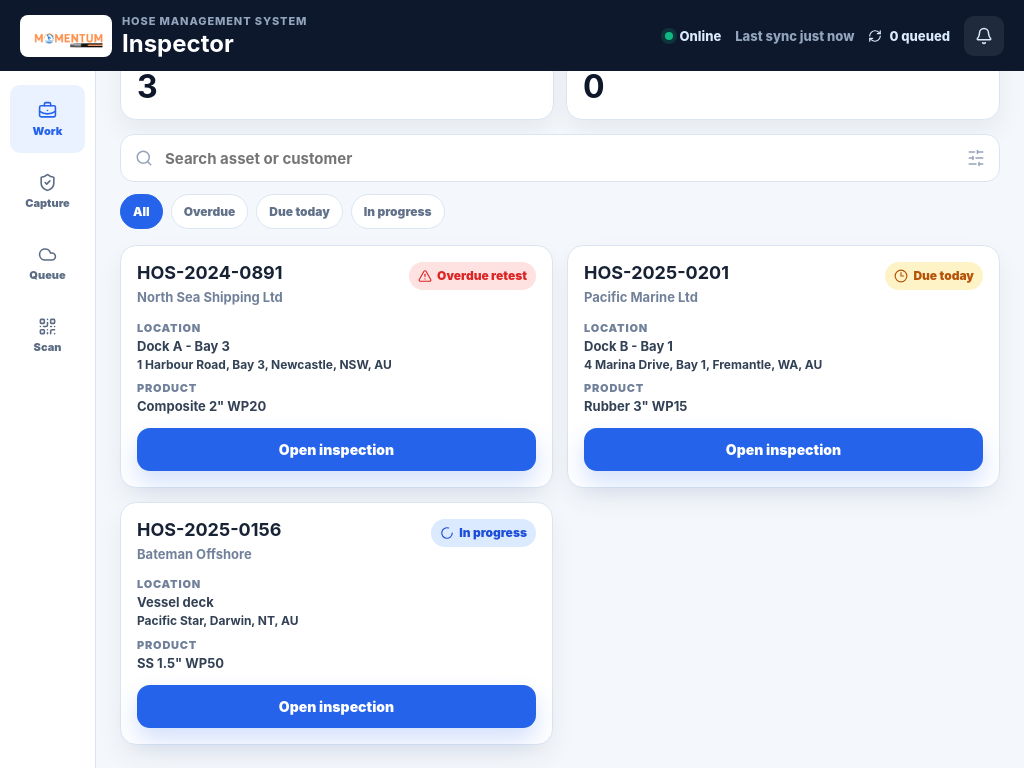
it: native inspection lifecycle in the inspector › shows an inspection the server holds in progress as editable, not as a draft
The image size is (1024, 768).
(page scrolled)
Click the button "Open inspection" below "SS 1.5\" WP50" at (336, 706), box [137, 685, 536, 728]
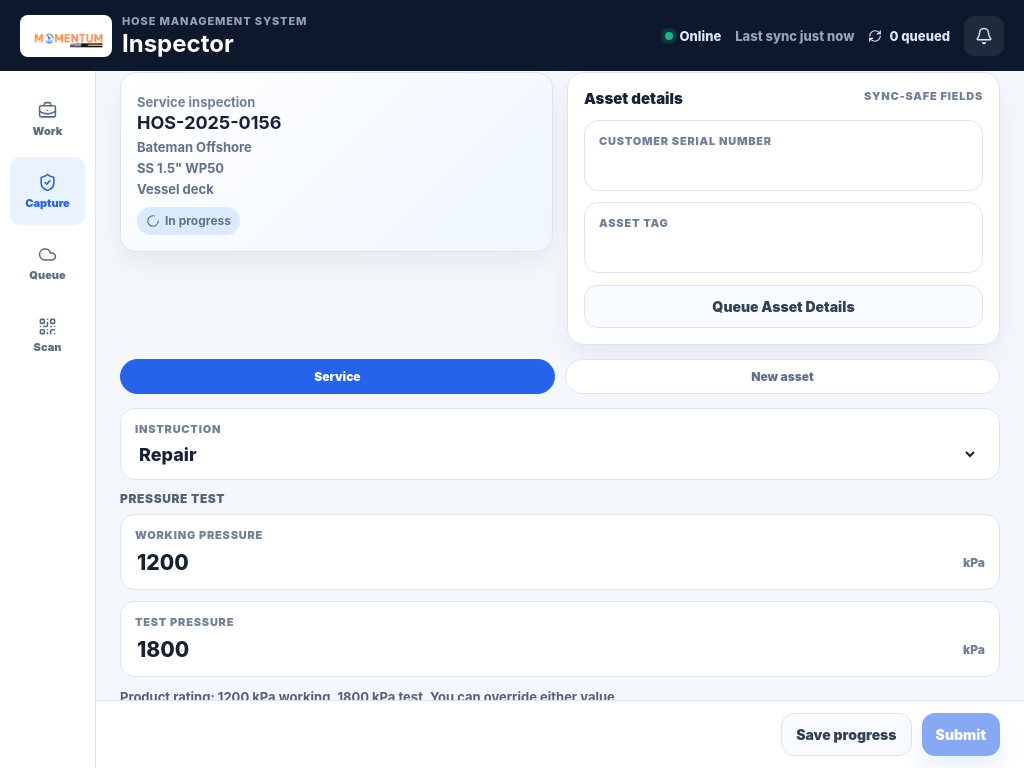
Expected: the button "Save progress" is shown, [781, 713, 912, 756]
